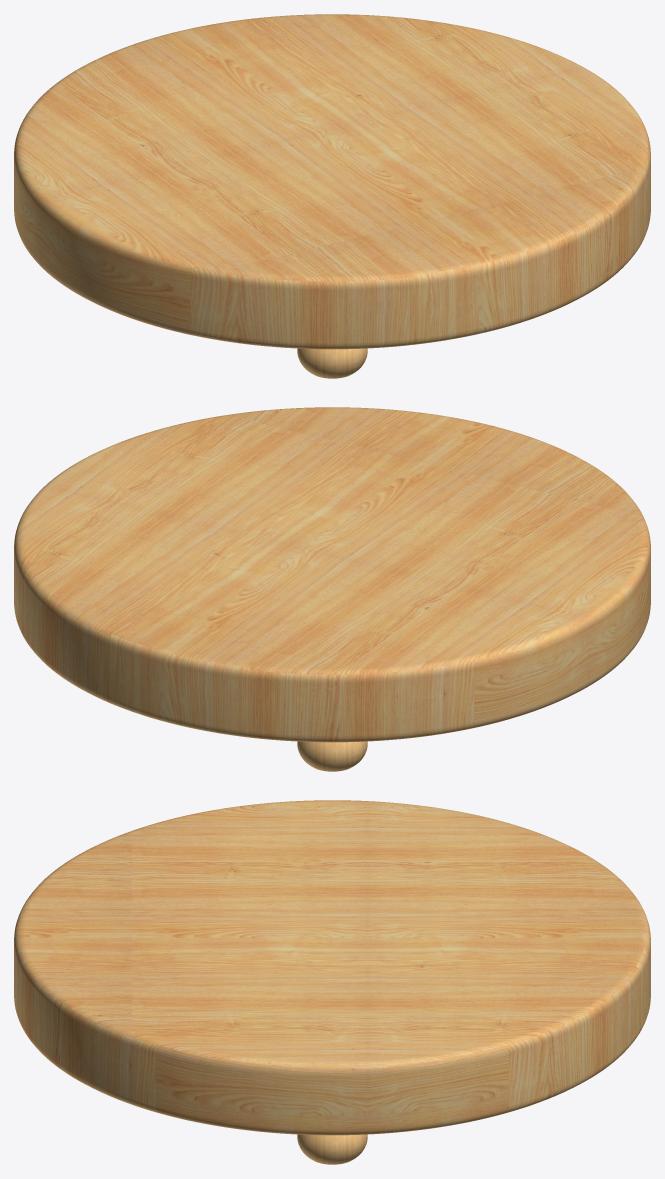
Rendered from cutting_board_compressed.glb.
3 views of the same model, one above another, from view 1: azimuth 30°, elevation 25°; view 2: azimuth 150°, elevation 25°; view 3: azimuth 270°, elevation 25° (orthographic).
Visible parts, largest first — view 1: Cylinder001; view 2: Cylinder001; view 3: Cylinder001.
Boxes of the visible parts, box(x1,y1,x2,y2) form: Cylinder001: box(14, 14, 650, 378); Cylinder001: box(14, 407, 650, 771); Cylinder001: box(14, 800, 650, 1164).
Size of the model in its own units: 0.3048 by 0.0574 by 0.3048.
Materials: 1 (1 with a texture image).
